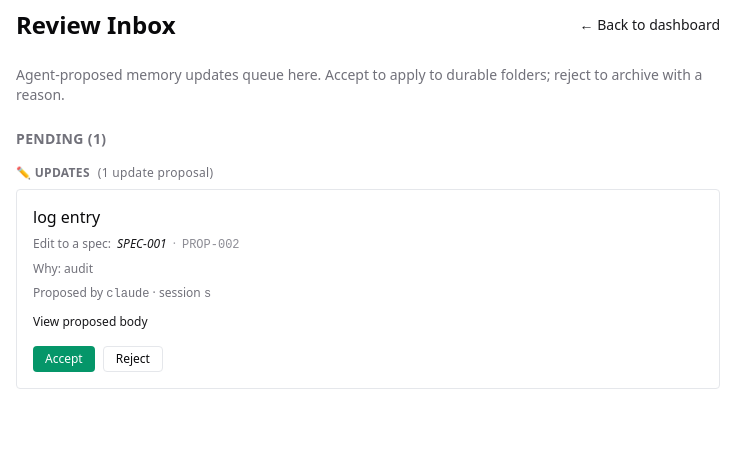
Test case: ReviewInbox (smoke) › renders patch-mode proposals as labeled section ops, not a single body blob
Check: the text "PROP-002" is shown, box top-left (182, 237), bottom-right (240, 253)
Click the button "View proposed body" at (90, 322), box top-left (33, 314), bottom-right (148, 330)
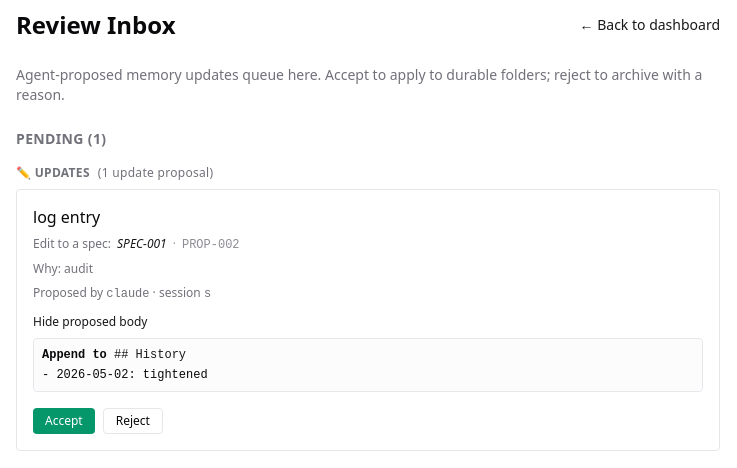
Check: the text "Append to" is shown, box top-left (42, 348), bottom-right (107, 362)
Check: the text "## History" is shown, box top-left (114, 348), bottom-right (186, 362)
Check: the text "- 2026-05-02: tightened" is shown, box top-left (42, 368), bottom-right (208, 382)
